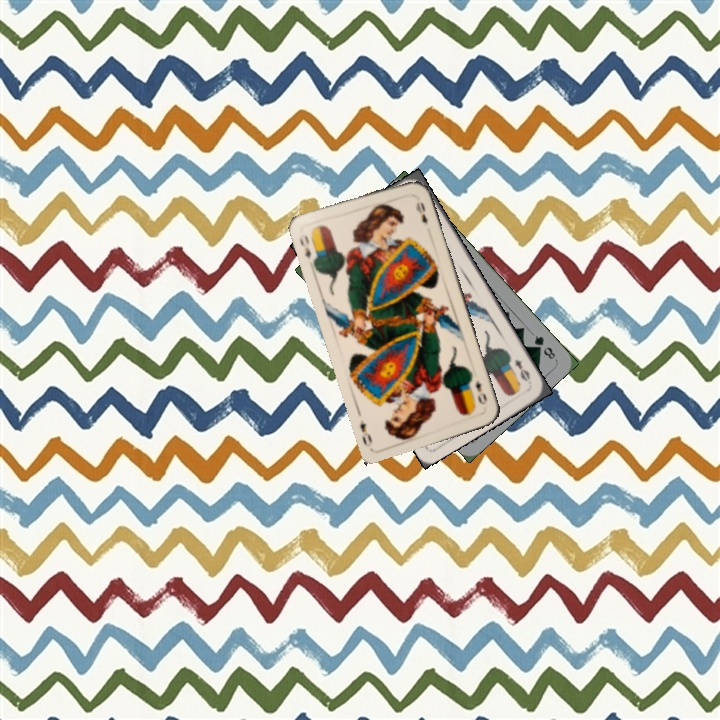EO: (510, 355, 533, 384), (471, 376, 490, 407), (295, 232, 313, 262)
G8: (530, 331, 559, 363)
